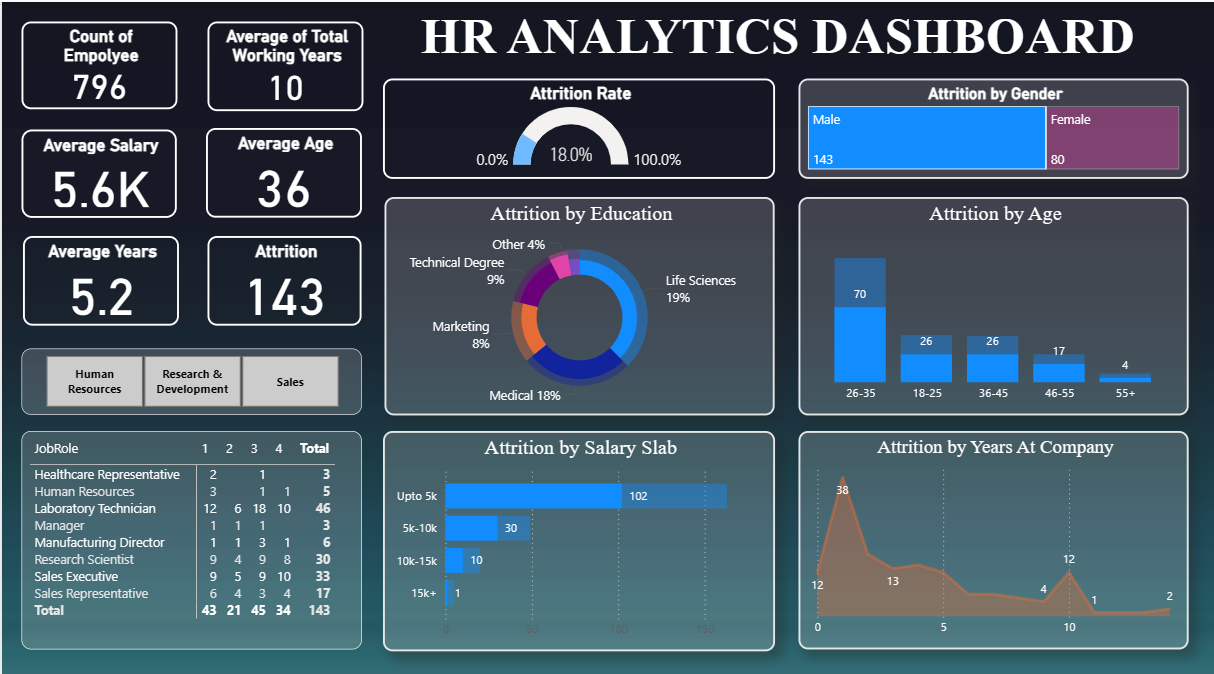

The page's visual inventory and layout, read from the dashboard file:
{"tool":"powerbi","page":{"name":"Page 1","canvas":[1280,717],"ordinal":0},"visuals":[{"type":"card","title":"Count of  Empolyee","fields":{"Values":["CountNonNull(HR_Analytics.EmpID)"]},"box":[20.8,20.8,164.4,92.6],"z":0},{"type":"textbox","box":[381.7,0,875,85],"z":1000},{"type":"gauge","title":"Attrition  Rate","fields":{"Y":["HR_Analytics.AttritionRate"]},"box":[402.5,81.3,413.9,105.8],"z":2000},{"type":"card","title":"Attrition","fields":{"Values":["Sum(HR_Analytics.AttritionCount)"]},"box":[217.3,247.6,162.5,94.5],"z":3000},{"type":"card","title":"Average Age","fields":{"Values":["Avg(HR_Analytics.Age)"]},"box":[215.4,132.3,164.4,94.5],"z":4000},{"type":"card","title":"Average Years","fields":{"Values":["Avg(HR_Analytics.YearsAtCompany)"]},"box":[22.7,247.6,164.4,94.5],"z":5000},{"type":"card","title":"Average Salary","fields":{"Values":["Avg(HR_Analytics.MonthlyIncome)"]},"box":[20.8,134.2,164,93],"z":6000},{"type":"donutChart","title":"Attrition by Education","fields":{"Category":["HR_Analytics.EducationField"],"Y":["Sum(HR_Analytics.AttritionCount)"]},"box":[404.4,206,412,230.6],"z":7000},{"type":"columnChart","title":"Attrition by Age","fields":{"Category":["HR_Analytics.AgeGroup"],"Y":["Sum(HR_Analytics.AttritionCount)"]},"box":[841,206,412,230.6],"z":8000},{"type":"barChart","title":"Attrition by Salary Slab","fields":{"Category":["HR_Analytics.SalarySlab"],"Y":["Sum(HR_Analytics.AttritionCount)"]},"box":[402.5,453.5,413.9,232.4],"z":9000},{"type":"areaChart","title":"Attrition by Years At Company","fields":{"Category":["HR_Analytics.YearsAtCompany"],"Y":["Sum(HR_Analytics.AttritionCount)"]},"box":[841,453.5,412,230.6],"z":10000},{"type":"treemap","title":"Attrition by Gender","fields":{"Group":["HR_Analytics.Gender"],"Values":["Sum(HR_Analytics.AttritionCount)"]},"box":[841,81.3,412,105.8],"z":12000},{"type":"slicer","fields":{"Values":["HR_Analytics.Department"]},"box":[20.8,366.6,359.1,69.9],"z":13000},{"type":"pivotTable","fields":{"Rows":["HR_Analytics.JobRole"],"Columns":["HR_Analytics.JobSatisfaction"],"Values":["Sum(HR_Analytics.AttritionCount)"]},"box":[20.8,453.5,359.1,230.6],"z":14000},{"type":"card","title":"Average of Total Working Years","fields":{"Values":["Avg(HR_Analytics.TotalWorkingYears)"]},"box":[217.3,20.8,164.4,94.5],"z":15000}]}

Visuals, with their boxes in screenshot pixels (x1, y1, x2, y2), scaled from the page's 1280x717 canvas onto the 1214x674 screenshot:
"Count of  Empolyee" card: 20, 20, 176, 107
textbox: 362, 0, 1192, 80
"Attrition  Rate" gauge: 382, 76, 774, 176
"Attrition" card: 206, 233, 360, 322
"Average Age" card: 204, 124, 360, 213
"Average Years" card: 22, 233, 177, 322
"Average Salary" card: 20, 126, 175, 214
"Attrition by Education" donutChart: 384, 194, 774, 410
"Attrition by Age" columnChart: 798, 194, 1188, 410
"Attrition by Salary Slab" barChart: 382, 426, 774, 645
"Attrition by Years At Company" areaChart: 798, 426, 1188, 643
"Attrition by Gender" treemap: 798, 76, 1188, 176
slicer - HR_Analytics.Department: 20, 345, 360, 410
pivotTable - HR_Analytics.JobRole x HR_Analytics.JobSatisfaction: 20, 426, 360, 643
"Average of Total Working Years" card: 206, 20, 362, 108
